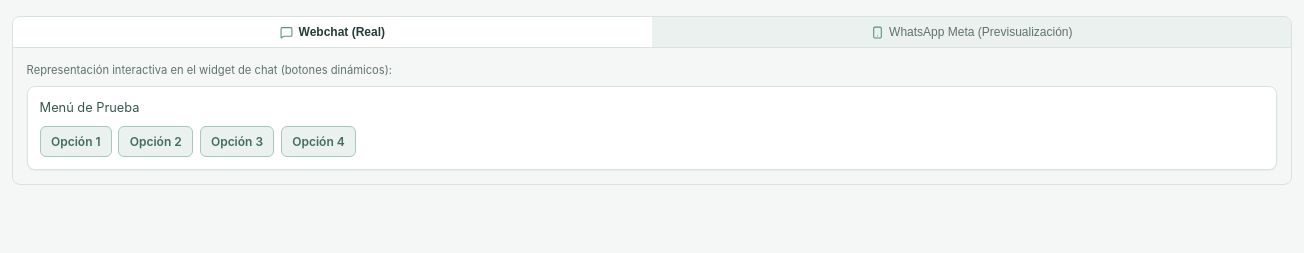
Test case: Conversational Builder V3 - Frontend Components › MultichannelPreview › switches between Webchat buttons and WhatsApp limits preview
This screenshot has width=1304, height=253.
Check: the button "Webchat (Real)" is shown, box [13,17,652,47]
Click WhatsApp tab
Click the button "WhatsApp Meta (Previsualización)". click: (972, 32)
box: [652,17,1291,47]
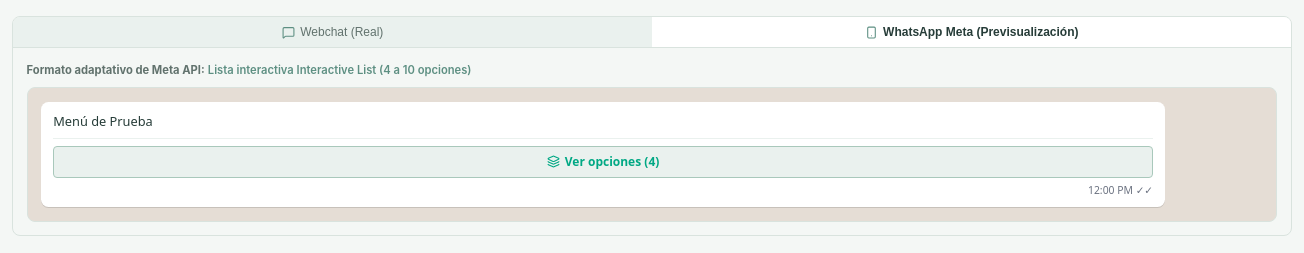
Check: the text "Lista interactiva Interactive List (4 a 10 opciones)" is shown, box [208,63,472,77]
Check: the text "Ver opciones (4)" is shown, box [53,146,1153,178]
